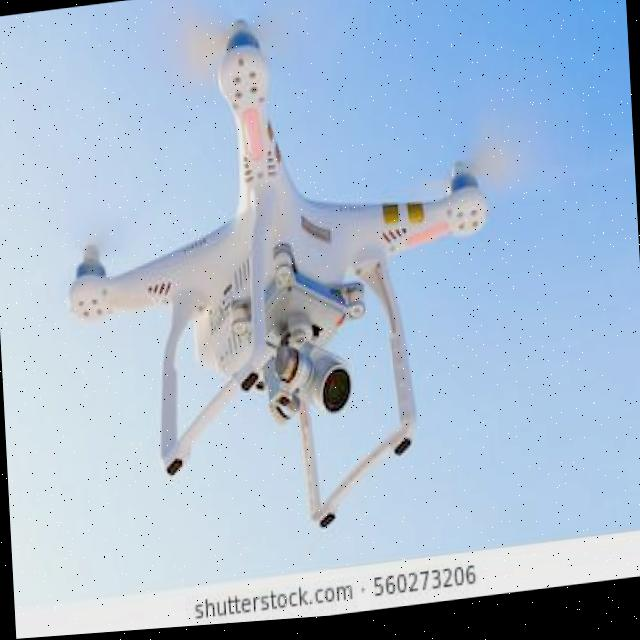drone: (50, 0, 556, 535)
